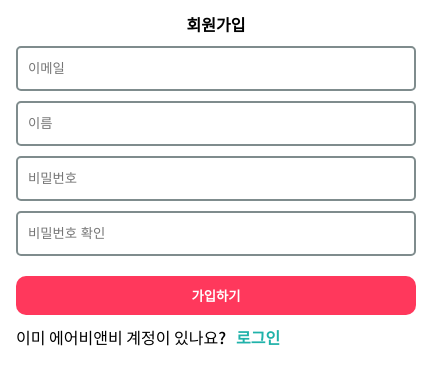
Test case: UserSignupPage › Interactions › 회원가입 요청 중, 스피너 표시
Type "my-email@naver.com" into the field with placeholder "이메일". click: [216, 68]
box: [16, 46, 416, 91]
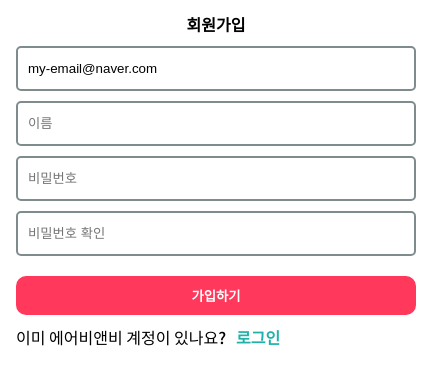
Type "홍길동" into the field with placeholder "이름". click: [216, 124]
box: [16, 101, 416, 146]
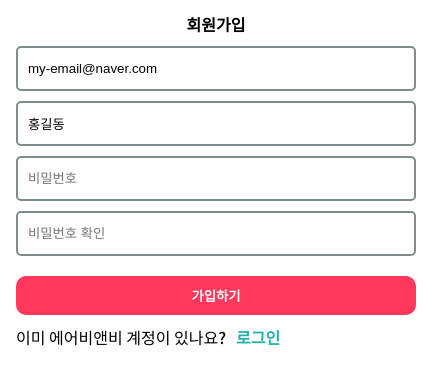
Type "P4ssword" into the password field with placeholder "비밀번호". click: [216, 178]
box: [16, 156, 416, 201]
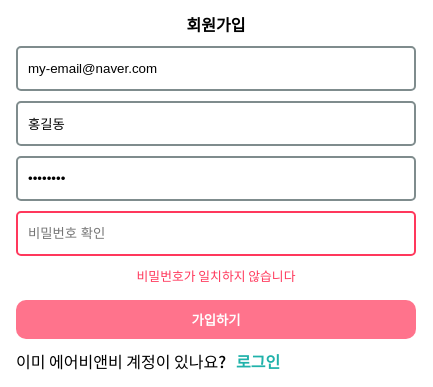
Type "P4ssword" into the password field with placeholder "비밀번호 확인". click: [216, 234]
box: [16, 211, 416, 256]
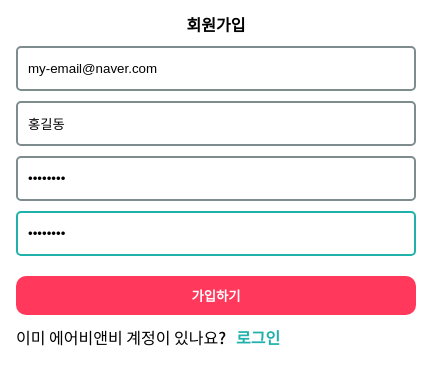
Click the button "가입하기". click: [216, 296]
box: [16, 276, 416, 315]
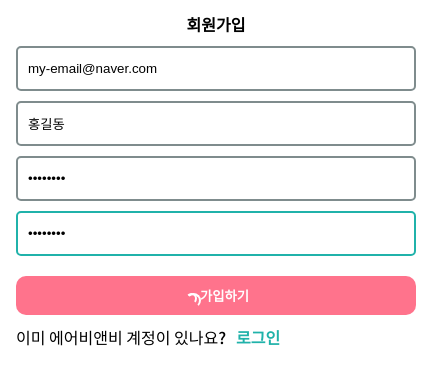
Expected: the icon with class "spinner" is shown, [186, 293, 197, 304]
